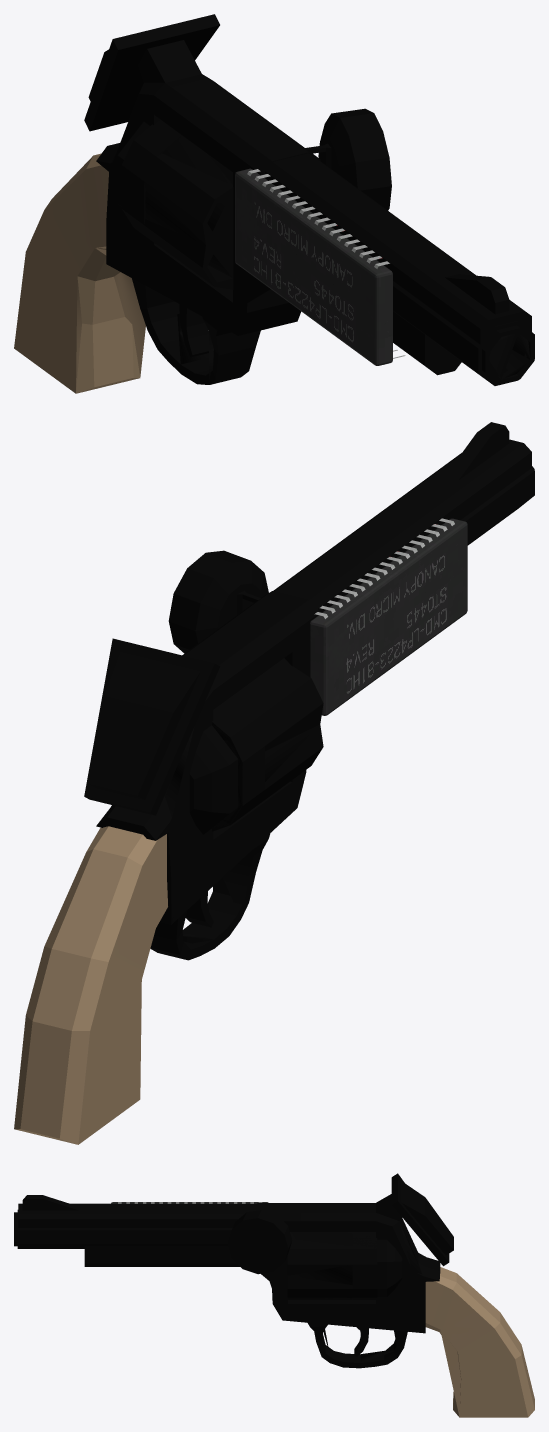
Rendered from item_wireframe_gun.glb.
3 views of the same model, one above another, from view 1: azimuth 30°, elevation 25°; view 2: azimuth 150°, elevation 25°; view 3: azimuth 270°, elevation 25° (orthographic). The views are drawn at different scales.
Parts seen in each view (by area): view 1: RevolverMain_submesh_2, RevolverMain_submesh_0, RevolverMain_submesh_1, ElecParts_Semiconductor_01, RevolverMain.001_submesh_0, AntennaDish_01; view 2: RevolverMain_submesh_2, RevolverMain_submesh_1, RevolverMain_submesh_0, ElecParts_Semiconductor_01, RevolverMain.001_submesh_1, AntennaDish_01, RevolverMain.001_submesh_0; view 3: RevolverMain_submesh_2, RevolverMain_submesh_1, RevolverMain_submesh_0, AntennaDish_01, RevolverMain.001_submesh_1, RevolverMain.001_submesh_0, ElecParts_Semiconductor_01.
Part boxes in pixels (<box>): RevolverMain_submesh_2: <box>96,74,534,385</box>; RevolverMain_submesh_0: <box>117,119,260,384</box>; RevolverMain_submesh_1: <box>14,153,145,393</box>; ElecParts_Semiconductor_01: <box>235,168,405,365</box>; RevolverMain.001_submesh_0: <box>84,14,219,131</box>; AntennaDish_01: <box>304,108,391,210</box>; RevolverMain_submesh_2: <box>96,422,534,924</box>; RevolverMain_submesh_1: <box>14,826,167,1144</box>; RevolverMain_submesh_0: <box>150,658,323,960</box>; ElecParts_Semiconductor_01: <box>310,518,467,715</box>; RevolverMain.001_submesh_1: <box>88,652,200,799</box>; AntennaDish_01: <box>168,550,268,653</box>; RevolverMain.001_submesh_0: <box>84,638,219,815</box>; RevolverMain_submesh_2: <box>14,1195,440,1333</box>; RevolverMain_submesh_1: <box>425,1267,534,1417</box>; RevolverMain_submesh_0: <box>287,1232,407,1368</box>; AntennaDish_01: <box>227,1210,292,1274</box>; RevolverMain.001_submesh_1: <box>401,1181,453,1255</box>; RevolverMain.001_submesh_0: <box>376,1173,449,1266</box>; ElecParts_Semiconductor_01: <box>111,1202,268,1203</box>.
Bounding box in the file's own units: 0.0751 × 0.1862 × 0.3964.
4 materials, 1 textured.
